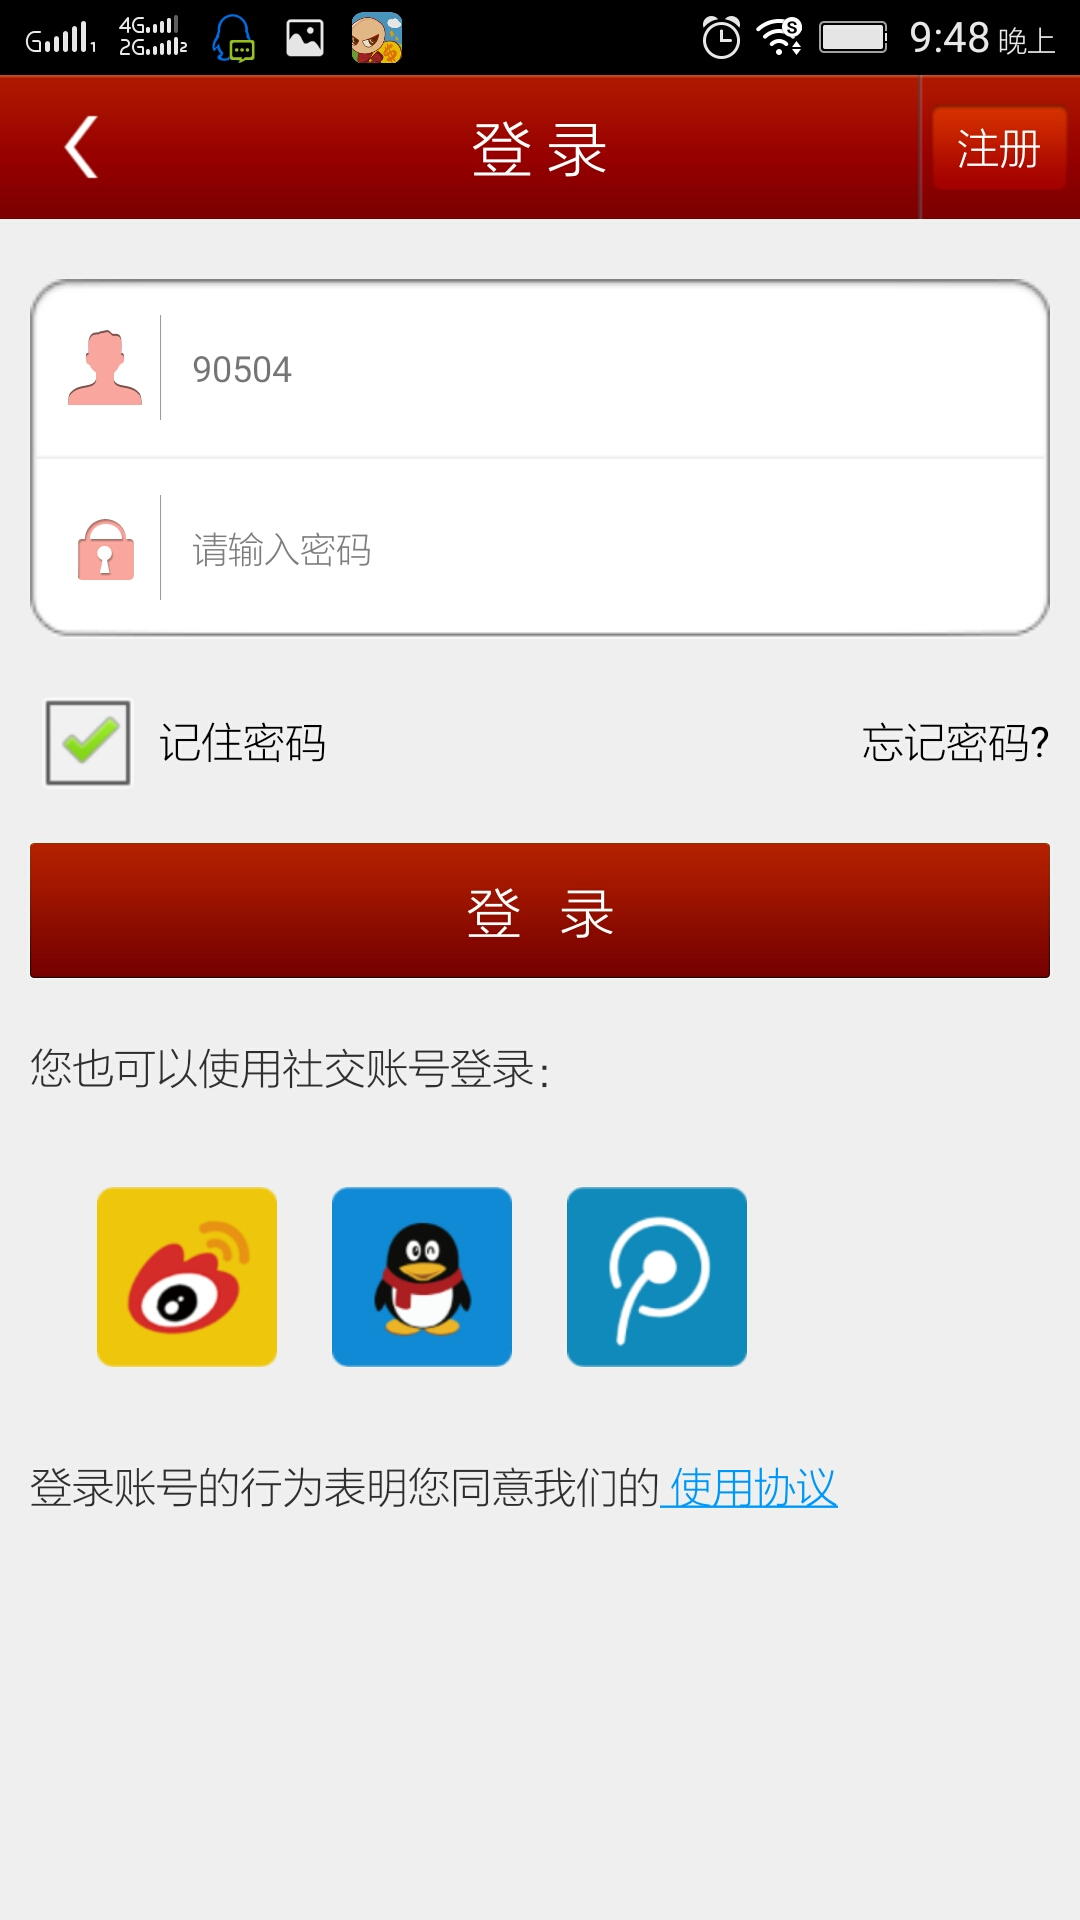button: (18, 837, 1058, 997), (923, 99, 1080, 195)
checkbox: (33, 691, 148, 800)
textview: (22, 268, 1065, 649)
